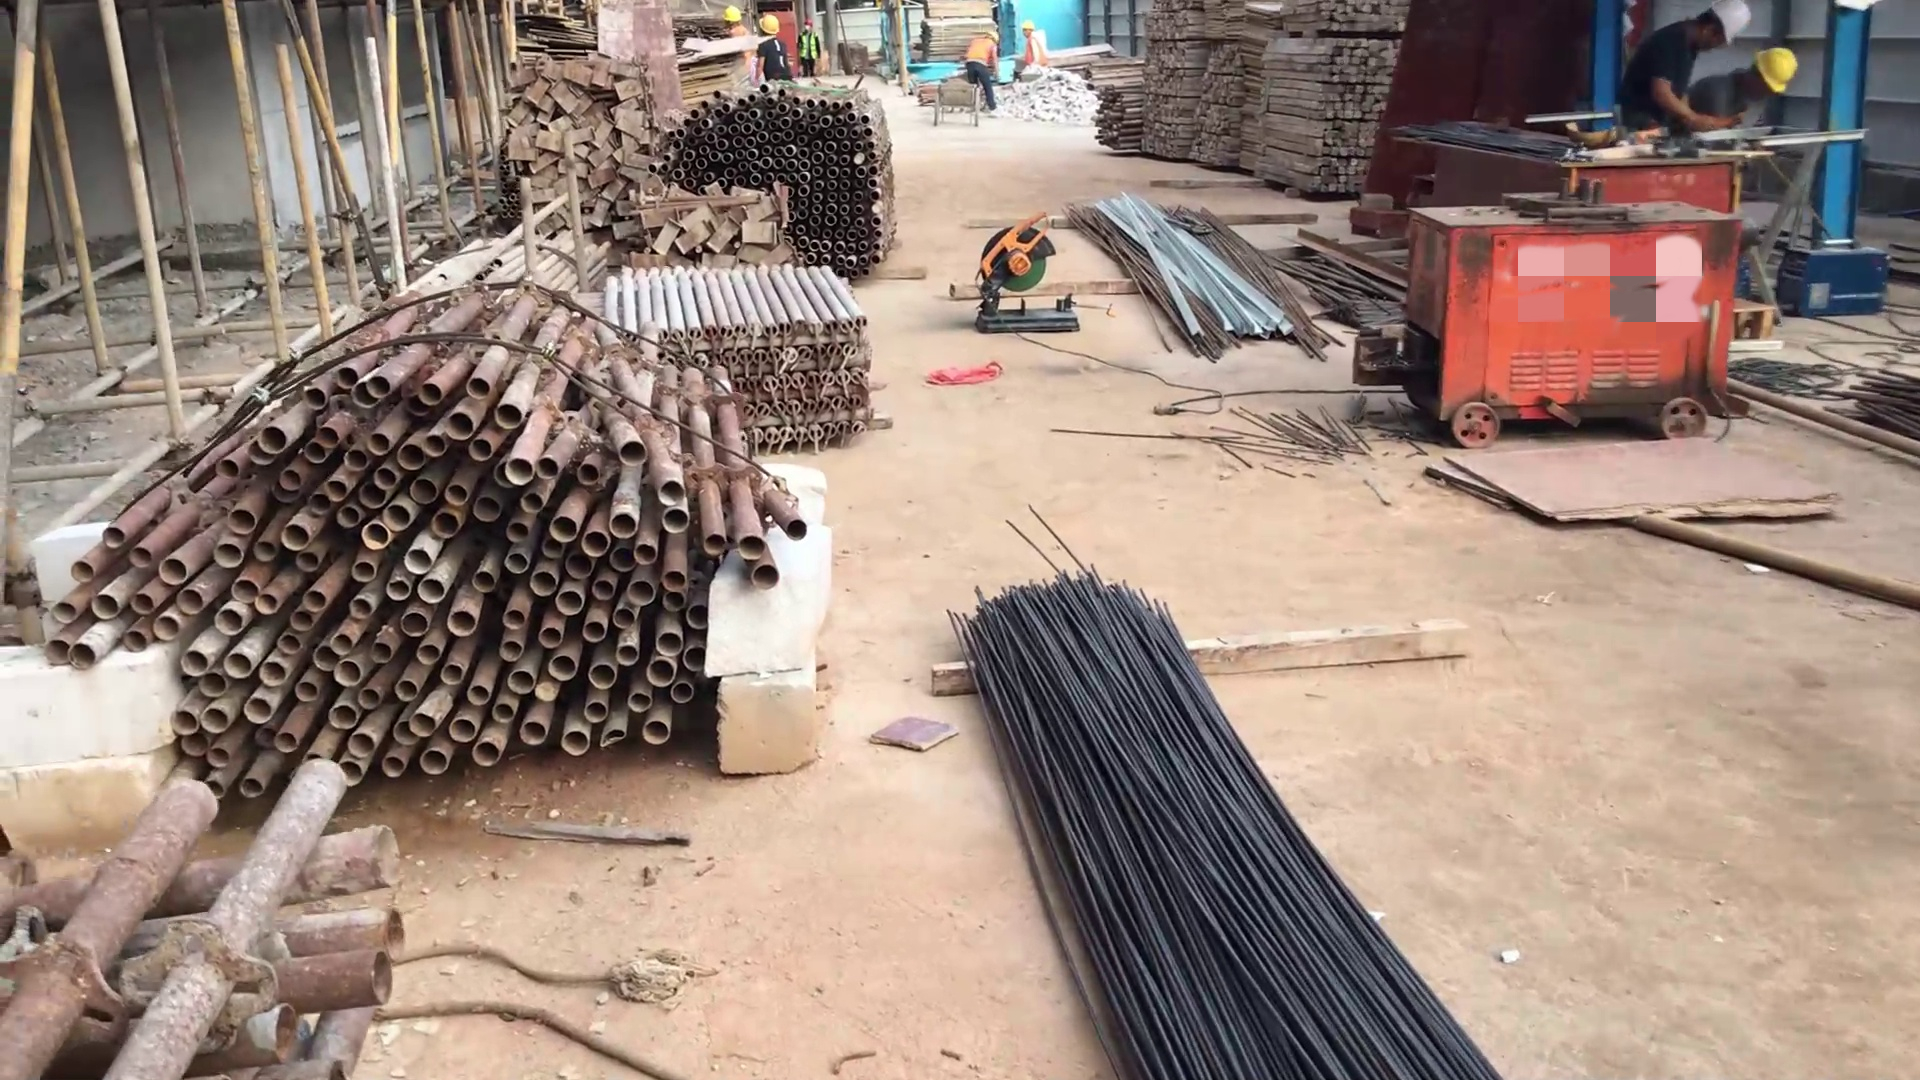cutter: (963, 201, 1086, 346)
helmet: (1686, 6, 1800, 94), (723, 2, 788, 43)
person: (1621, 5, 1750, 140), (1685, 44, 1792, 140), (964, 30, 1004, 116), (749, 13, 791, 92), (793, 12, 826, 76), (1017, 17, 1048, 83), (718, 4, 753, 48)
rebar: (938, 553, 1519, 1080)
scaffold: (42, 276, 824, 767), (14, 752, 410, 1078), (587, 255, 878, 457), (643, 79, 899, 283)
wood: (1143, 1, 1415, 194)
